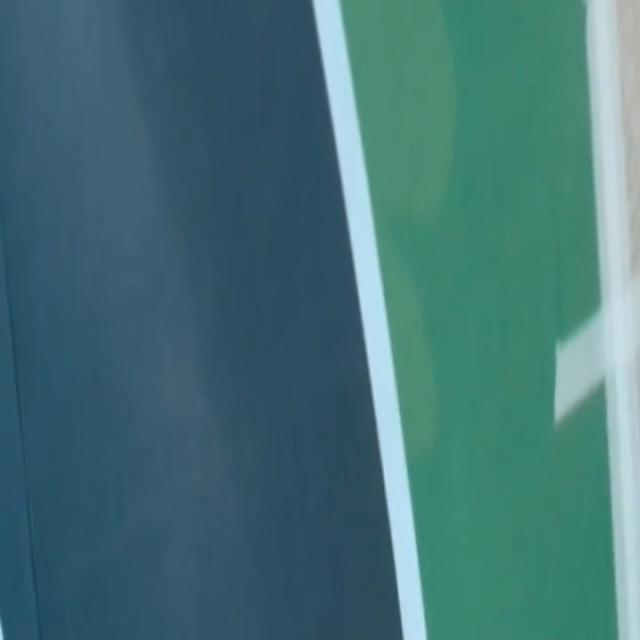center: (0, 618, 4, 639)
right: (313, 0, 426, 639)
